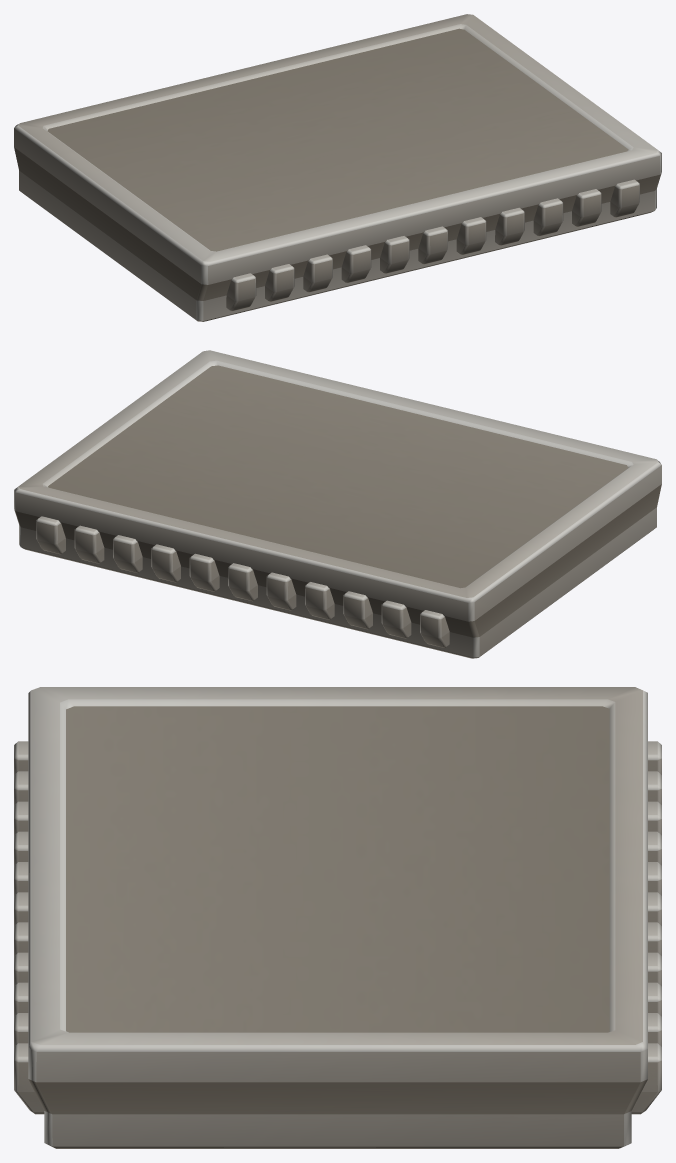
The model's file is appartment_type1_roof_type2_x6_flat.fbx.
3 views of the same model, one above another, from view 1: azimuth 30°, elevation 25°; view 2: azimuth 150°, elevation 25°; view 3: azimuth 270°, elevation 25° (orthographic). The views are drawn at different scales.
Visible parts, largest first — view 1: appartment_type1_roof_type2_x6_flat; view 2: appartment_type1_roof_type2_x6_flat; view 3: appartment_type1_roof_type2_x6_flat.
Boxes of the visible parts, bbox=[...] form: appartment_type1_roof_type2_x6_flat: bbox=[14, 14, 661, 321]; appartment_type1_roof_type2_x6_flat: bbox=[14, 350, 661, 658]; appartment_type1_roof_type2_x6_flat: bbox=[14, 687, 661, 1148].
Bounding box in the file's own units: 1200 × 160 × 907.
